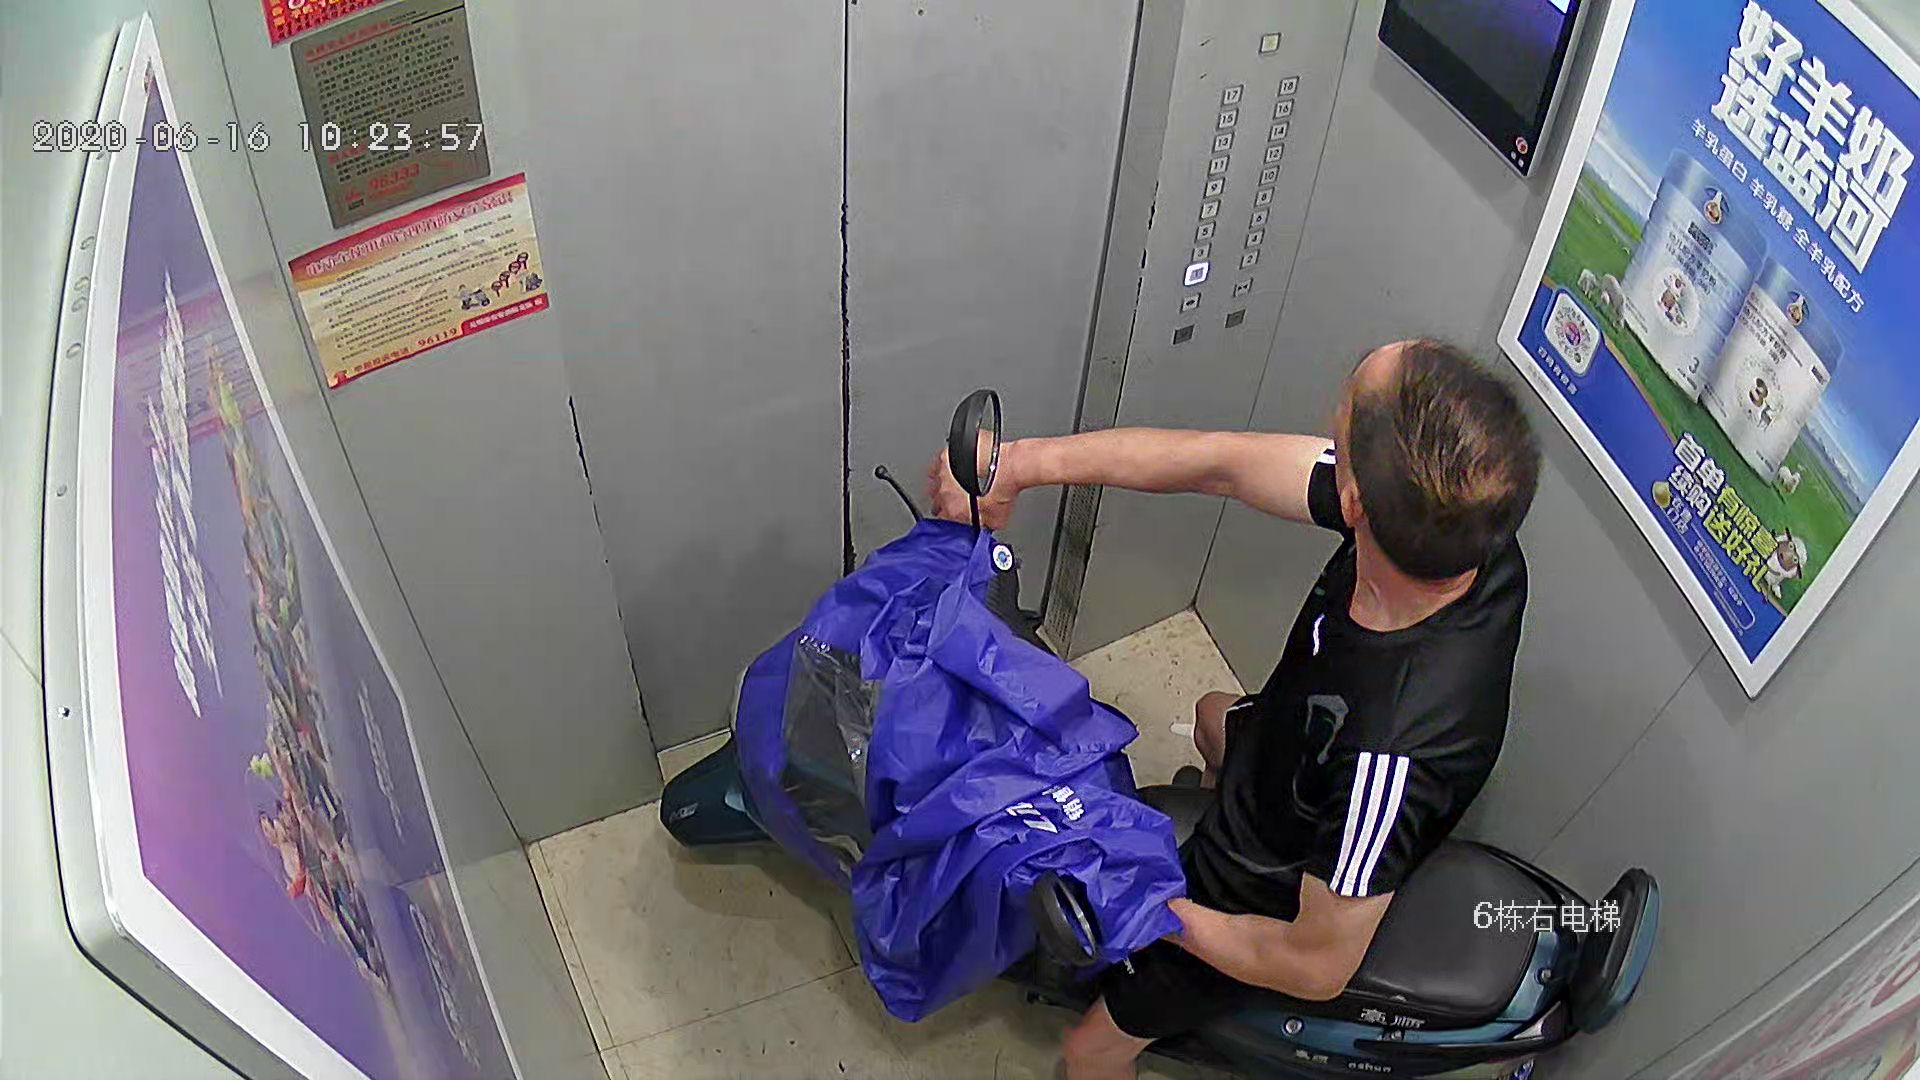Electric-bicycle: (659, 384, 1662, 1058)
